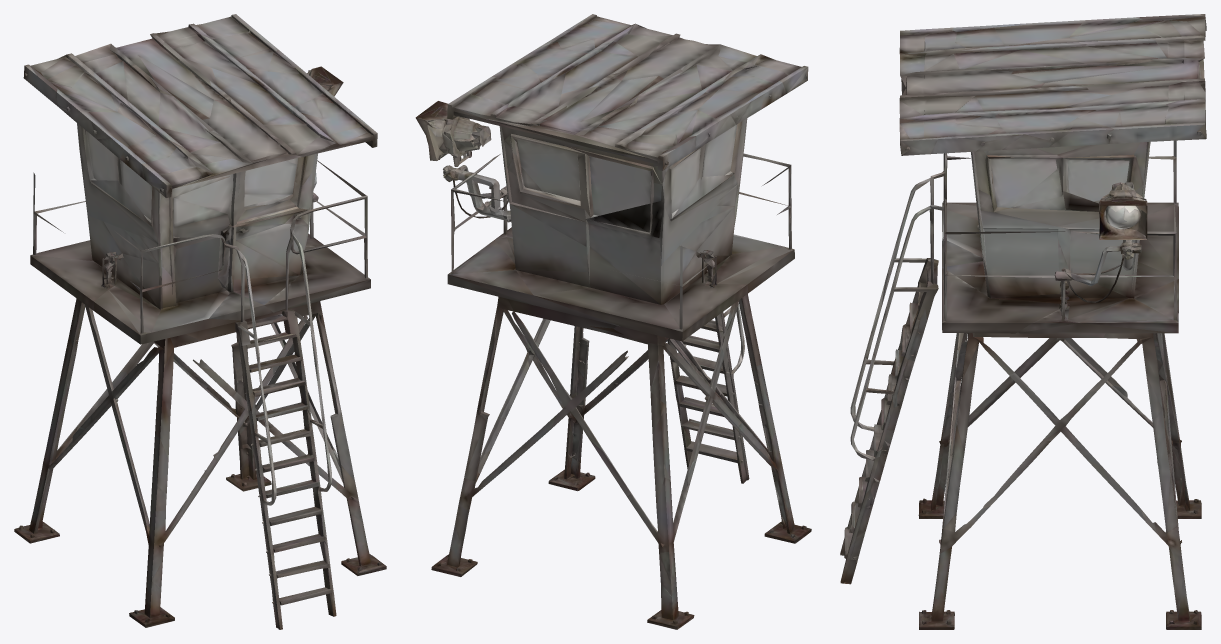
File: watchtower.glb
The picture shows the model from 3 angles, left to right: view 1: azimuth 30°, elevation 25°; view 2: azimuth 150°, elevation 25°; view 3: azimuth 270°, elevation 25°; orthographic projection. The views are drawn at different scales.
Visible parts, largest first — view 1: Mesh_0; view 2: Mesh_0; view 3: Mesh_0.
Boxes of the visible parts, <box> form: Mesh_0: <box>14,14,386,629</box>; Mesh_0: <box>415,14,811,629</box>; Mesh_0: <box>840,14,1206,629</box>.
Size of the model in its own units: 1.21 by 1.9 by 1.27.
1 material, 1 textured.
